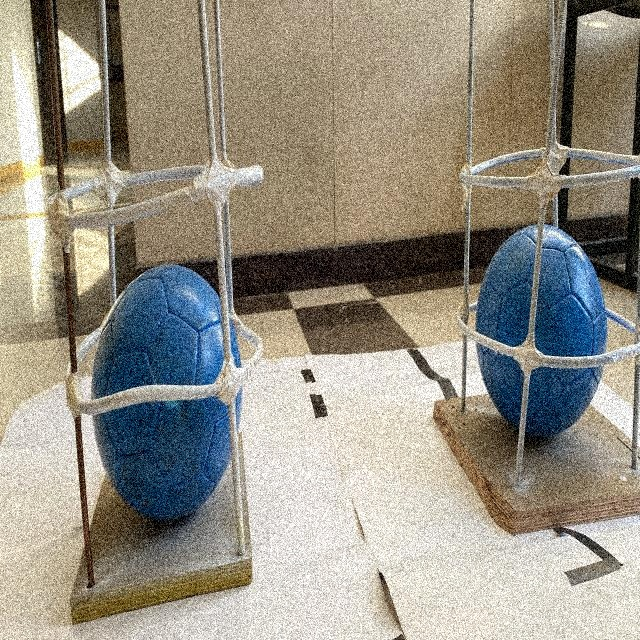blue_ball: (92, 266, 241, 520), (475, 218, 606, 437)
silo: (39, 0, 259, 597), (450, 0, 640, 520)
